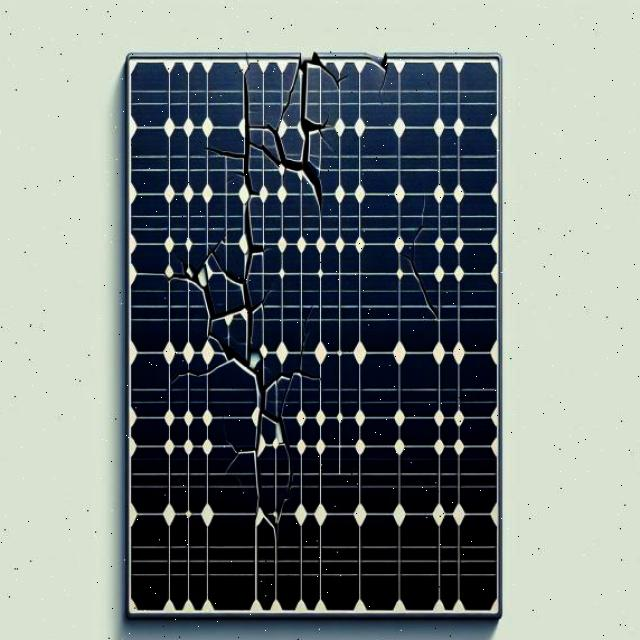Anomaly Solar Panel: (128, 57, 498, 614)
Structural Damage: (148, 56, 339, 550), (392, 188, 440, 326), (258, 413, 288, 519), (309, 52, 352, 95), (376, 61, 387, 109)
